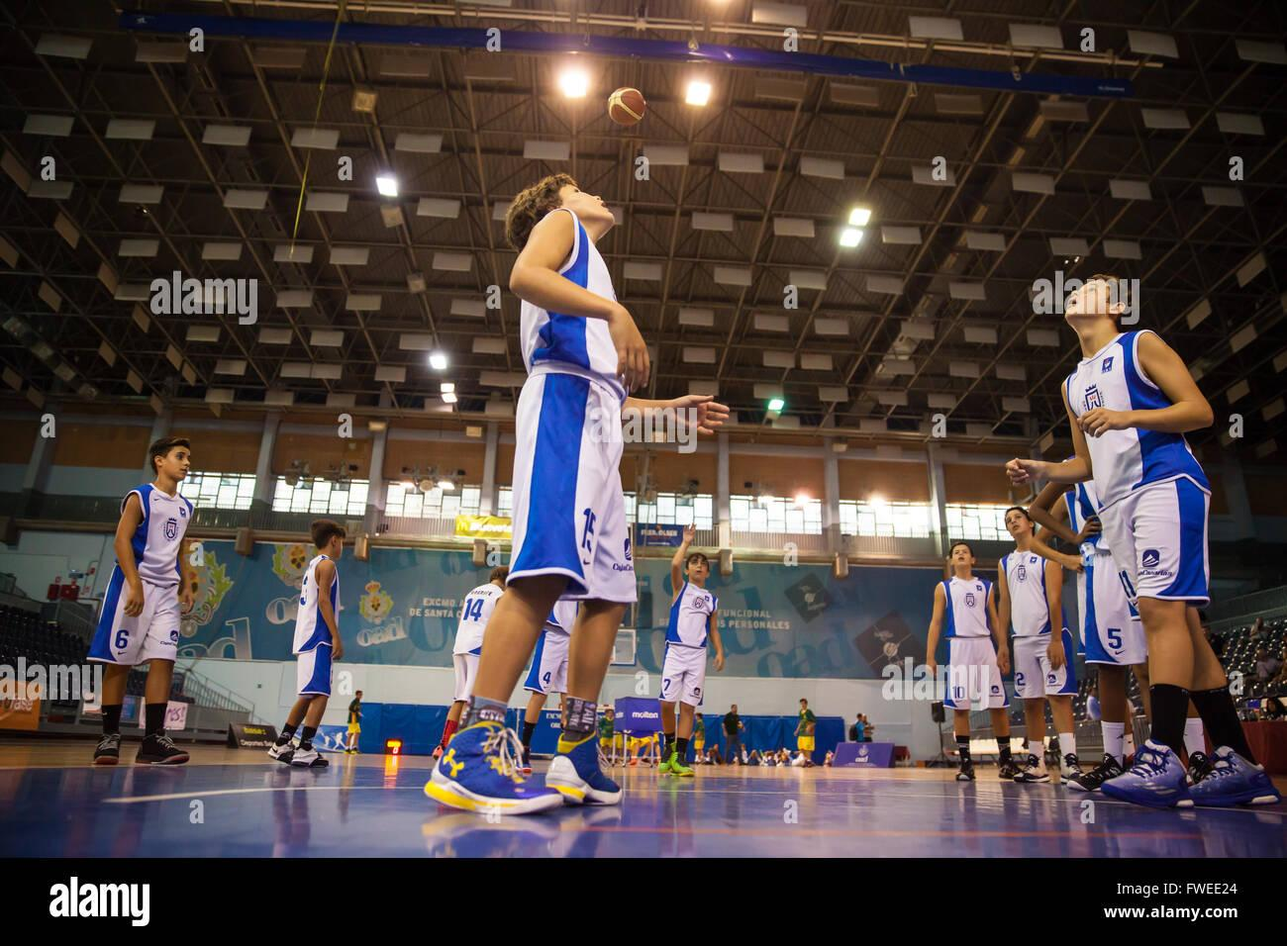basketball: (607, 79, 649, 130)
